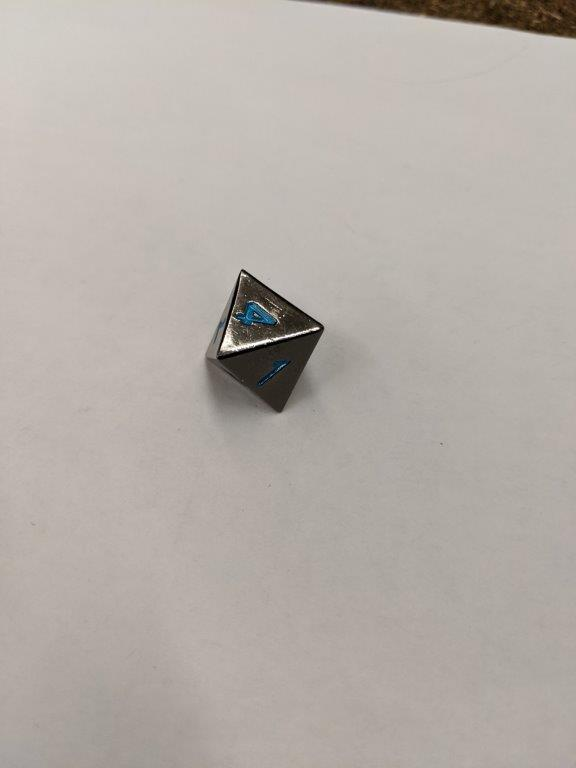d8-4: (204, 268, 327, 415)
